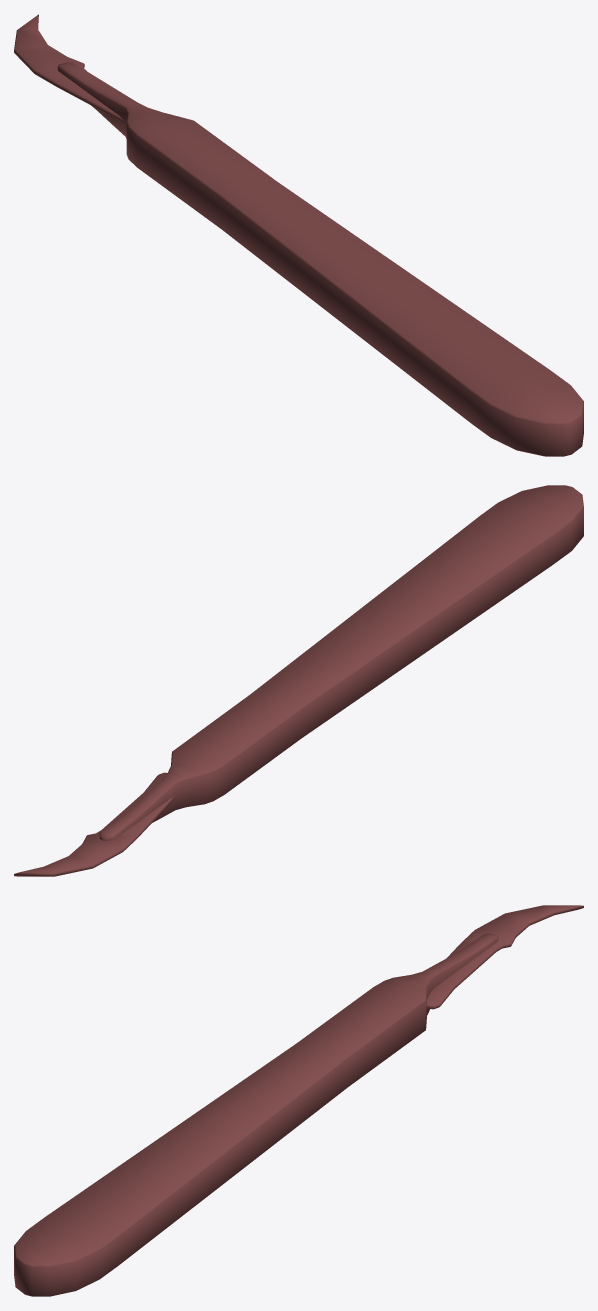
Rendered from Scalpel_02.fbx.
The picture shows the model from 3 angles, top to bottom: view 1: azimuth 30°, elevation 25°; view 2: azimuth 150°, elevation 25°; view 3: azimuth 330°, elevation 25°; orthographic projection. The views are drawn at different scales.
Visible parts, largest first — view 1: Scalpel_02; view 2: Scalpel_02; view 3: Scalpel_02.
Boxes of the visible parts, x1,y1,x2,y2 form: Scalpel_02: (14,14,583,456); Scalpel_02: (14,485,583,876); Scalpel_02: (14,905,583,1296).
Size of the model in its own units: 0.9681 by 11.65 by 0.3923.
